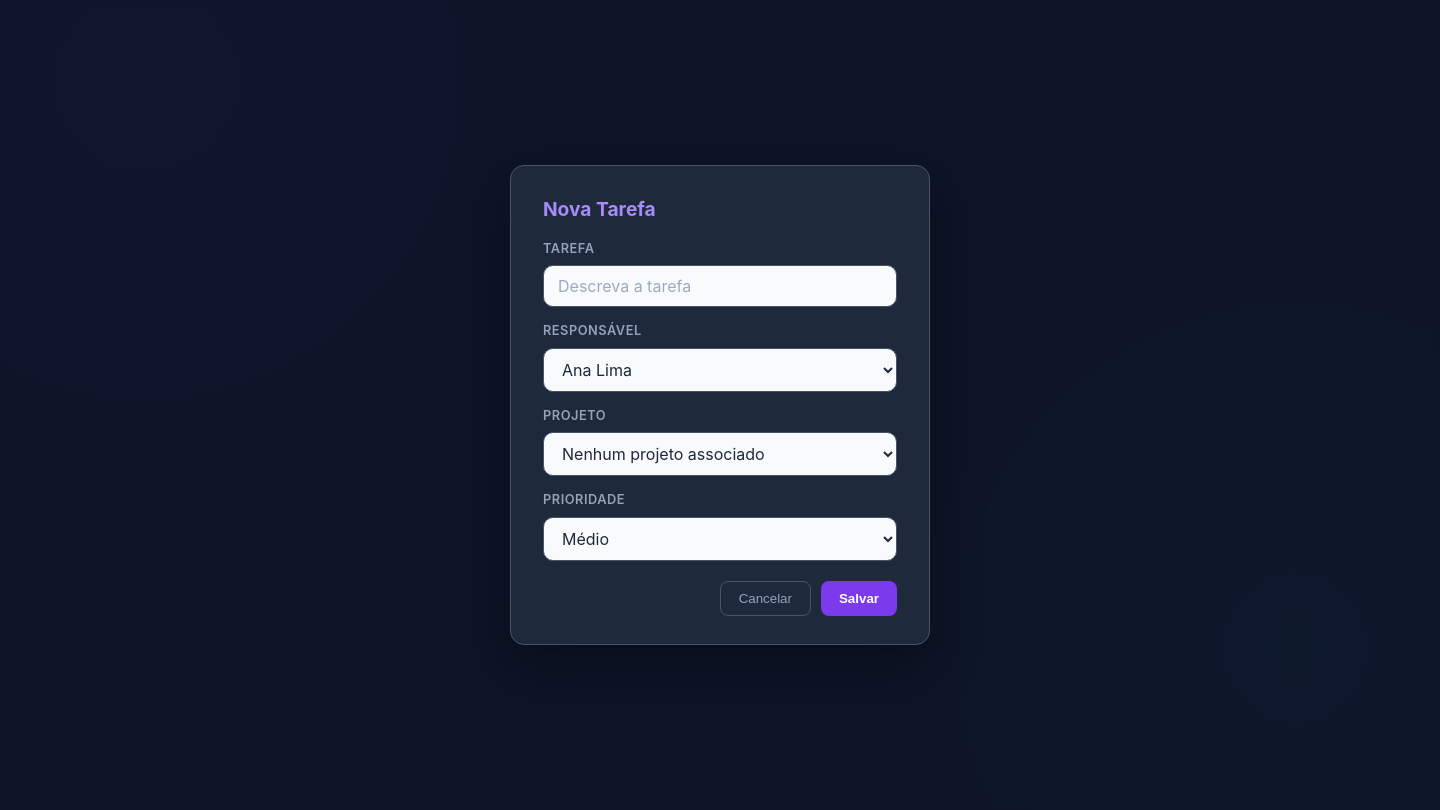
Test: ModalTarefa › enquanto salva, o botão vira Salvando... e fica desabilitado
The width and height of the screenshot is (1440, 810).
Type "Tarefa demorada" into the field labelled "Tarefa" at (720, 286), box [543,265,897,307]
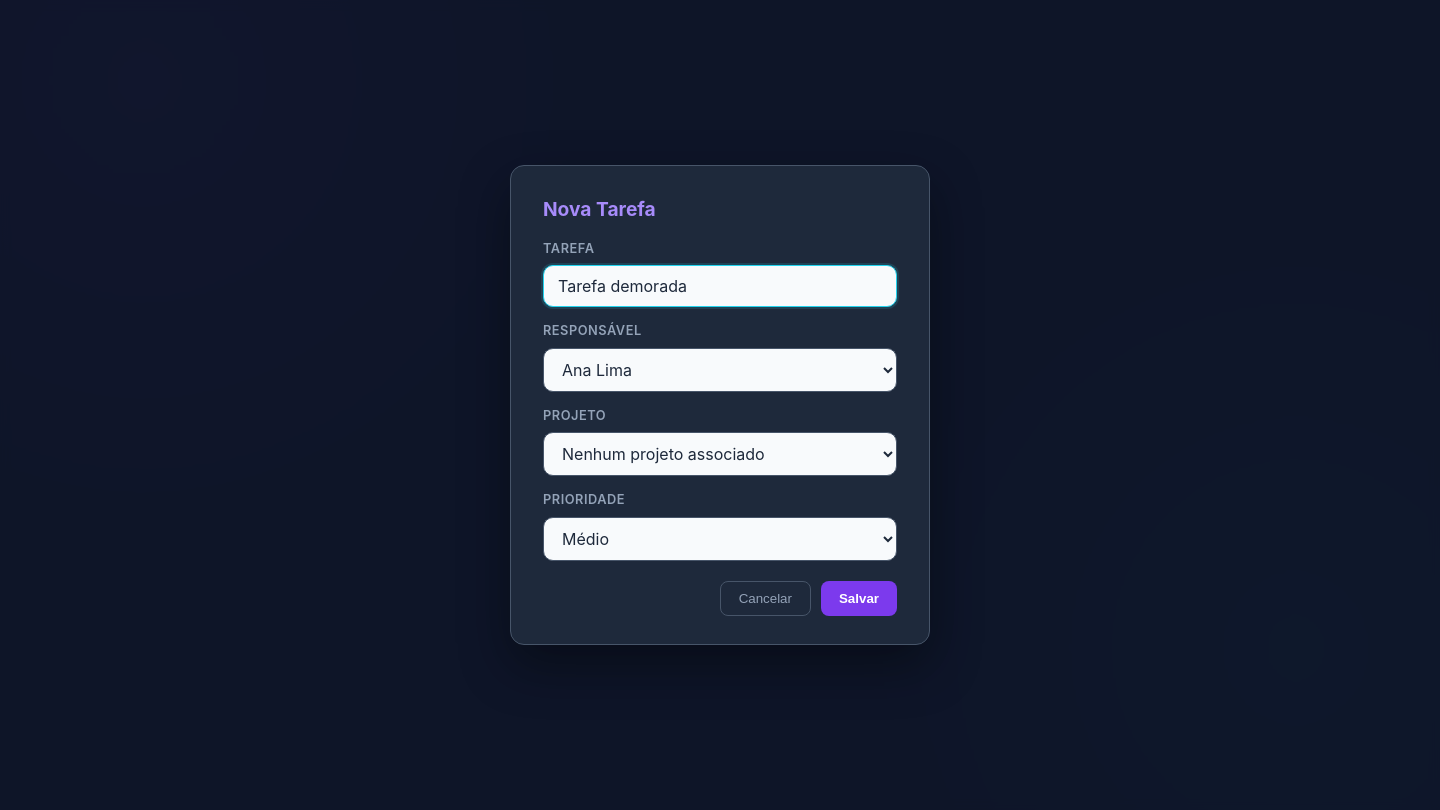
Click the button "Salvar" at (859, 598), box [821,581,897,616]
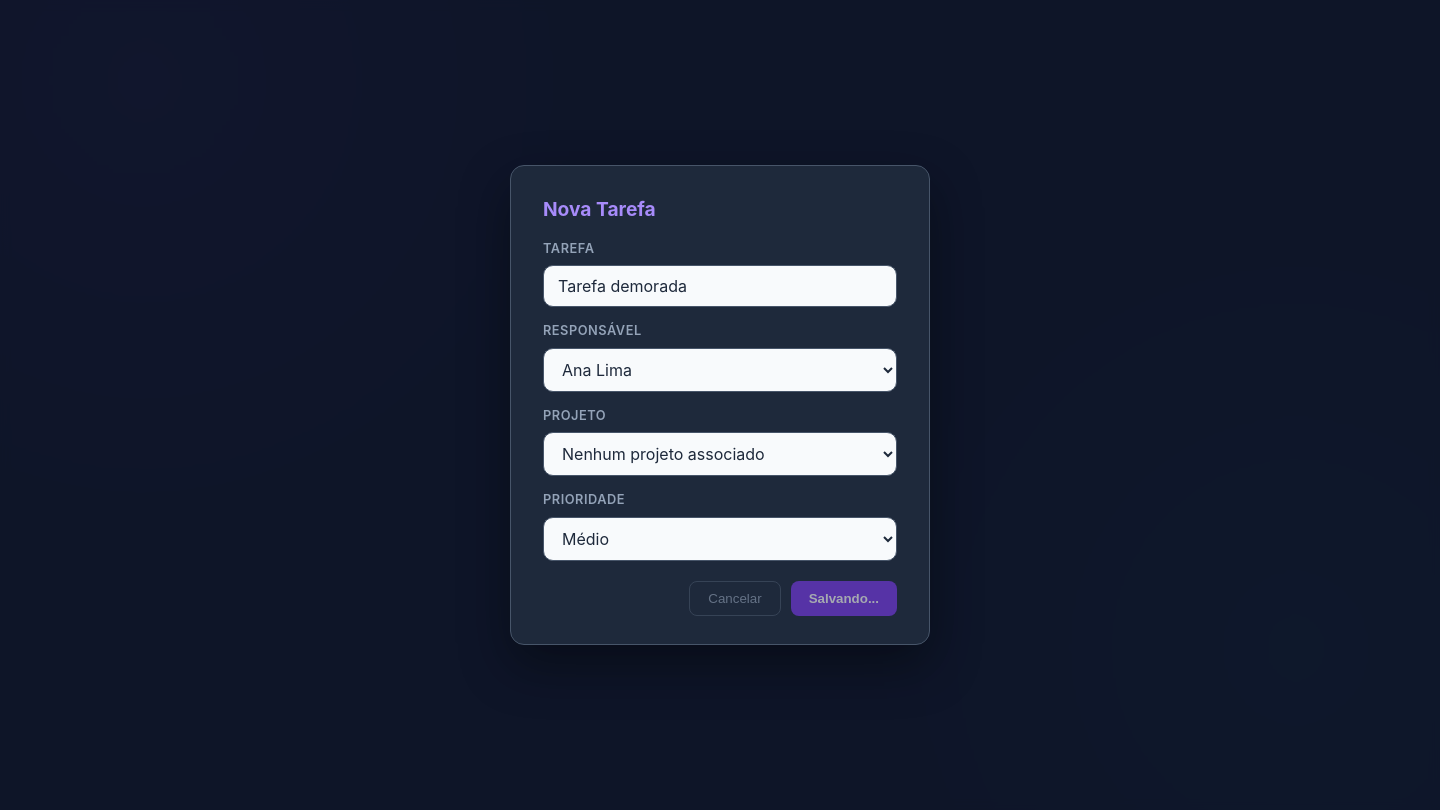
expect the button "Salvando..." is disabled: met, box [791,581,897,616]
